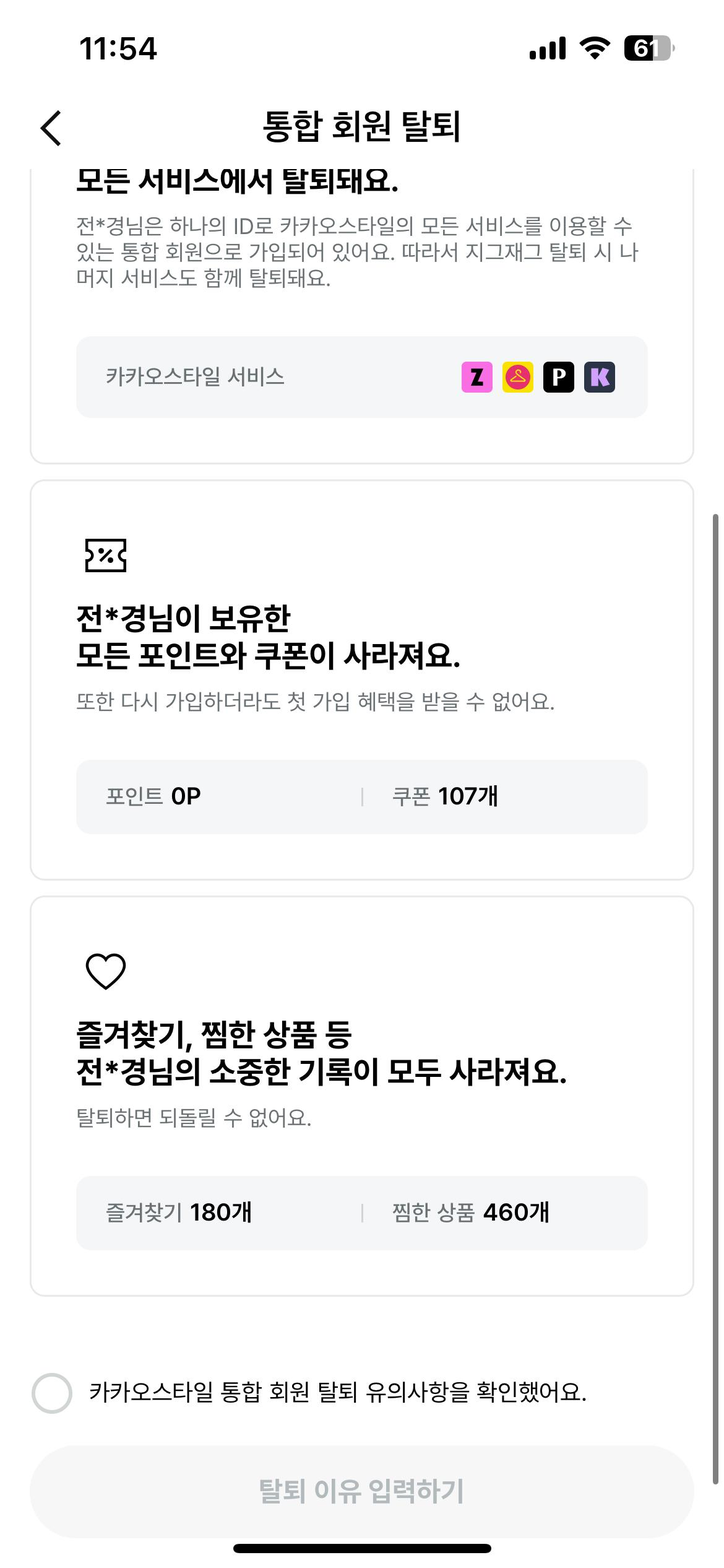button: (29, 1449, 689, 1544), (33, 103, 72, 157)
checkbox: (23, 1360, 594, 1431)
